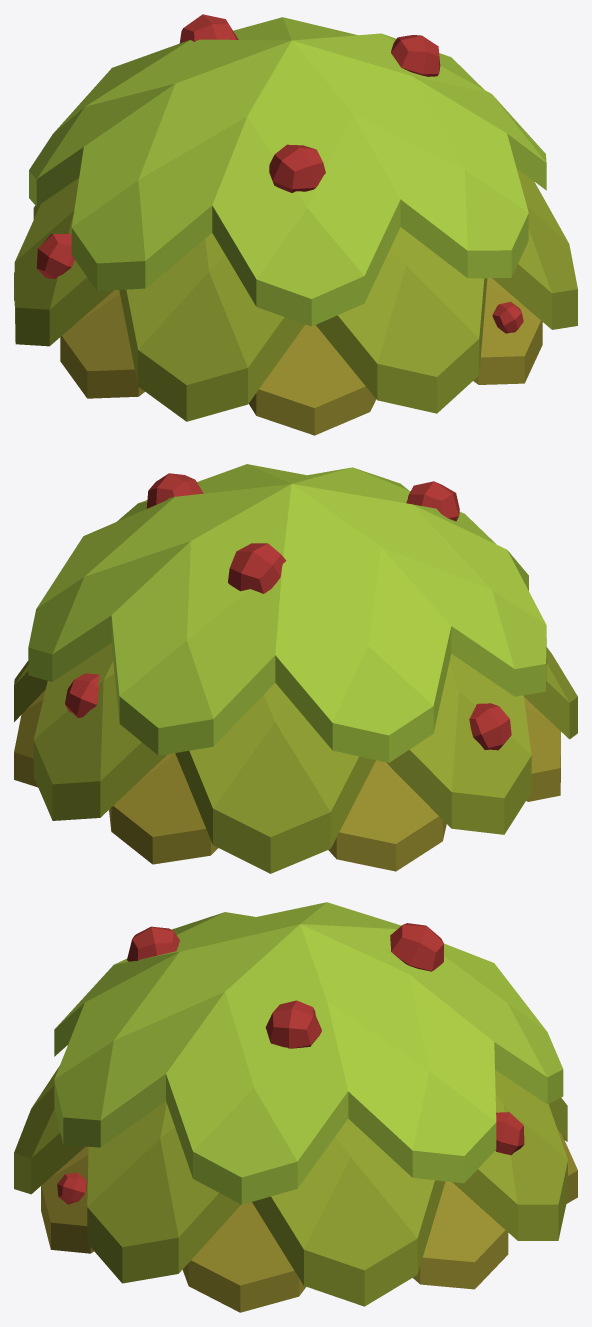
The model's file is ArbustoPequeno.fbx.
The picture shows the model from 3 angles, top to bottom: view 1: azimuth 30°, elevation 25°; view 2: azimuth 150°, elevation 25°; view 3: azimuth 270°, elevation 25°; orthographic projection.
Visible parts, largest first — view 1: Cone.007; view 2: Cone.007; view 3: Cone.007.
Part boxes in pixels (x1,y1,x2,y2): Cone.007: (14, 14, 577, 435); Cone.007: (14, 464, 577, 873); Cone.007: (14, 902, 577, 1312).
Size of the model in its own units: 152 by 82.58 by 154.
1 material, 1 textured.
